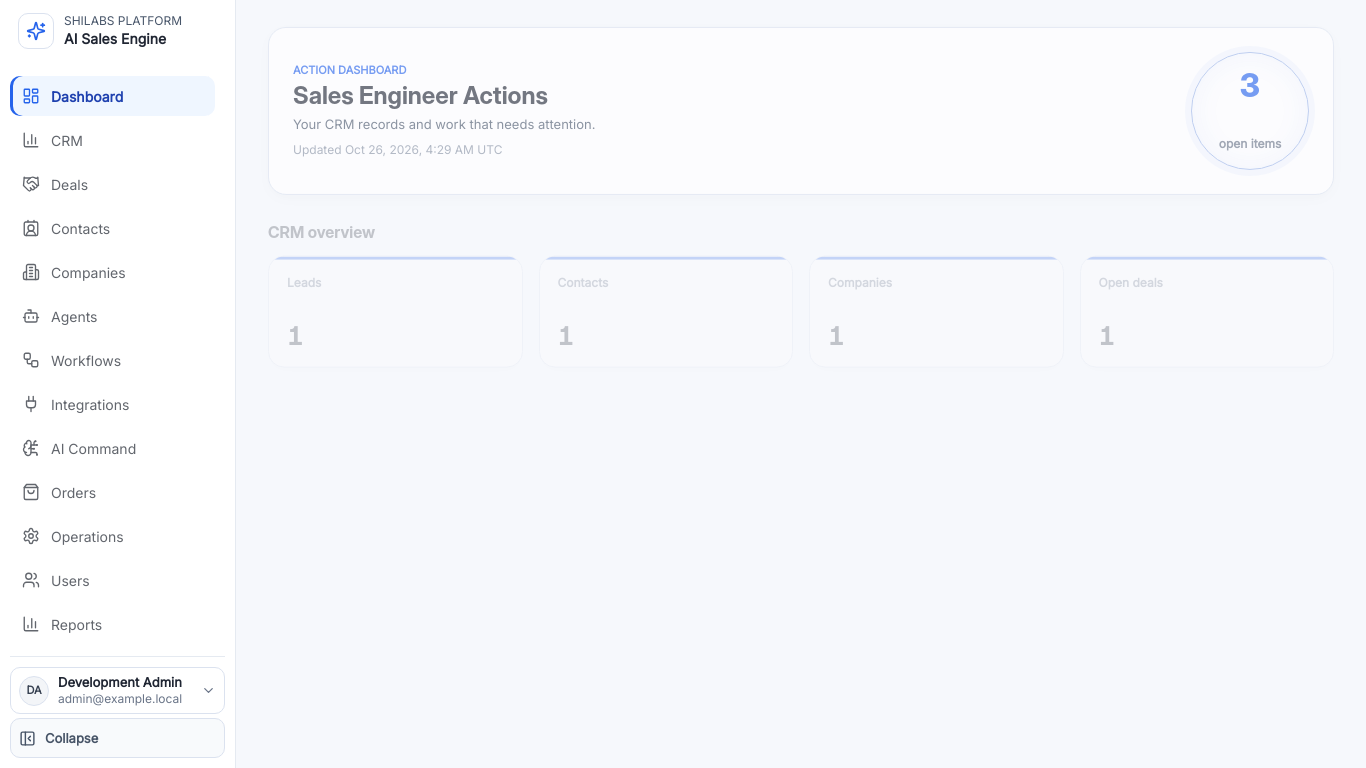
web app › persists the collapsed sidebar without changing the active view
expect the heading "Sales Engineer Actions" is shown: met, box [293,80,548,108]
Click the button with aria-label "Collapse sidebar" at (118, 738), box [10,718,225,758]
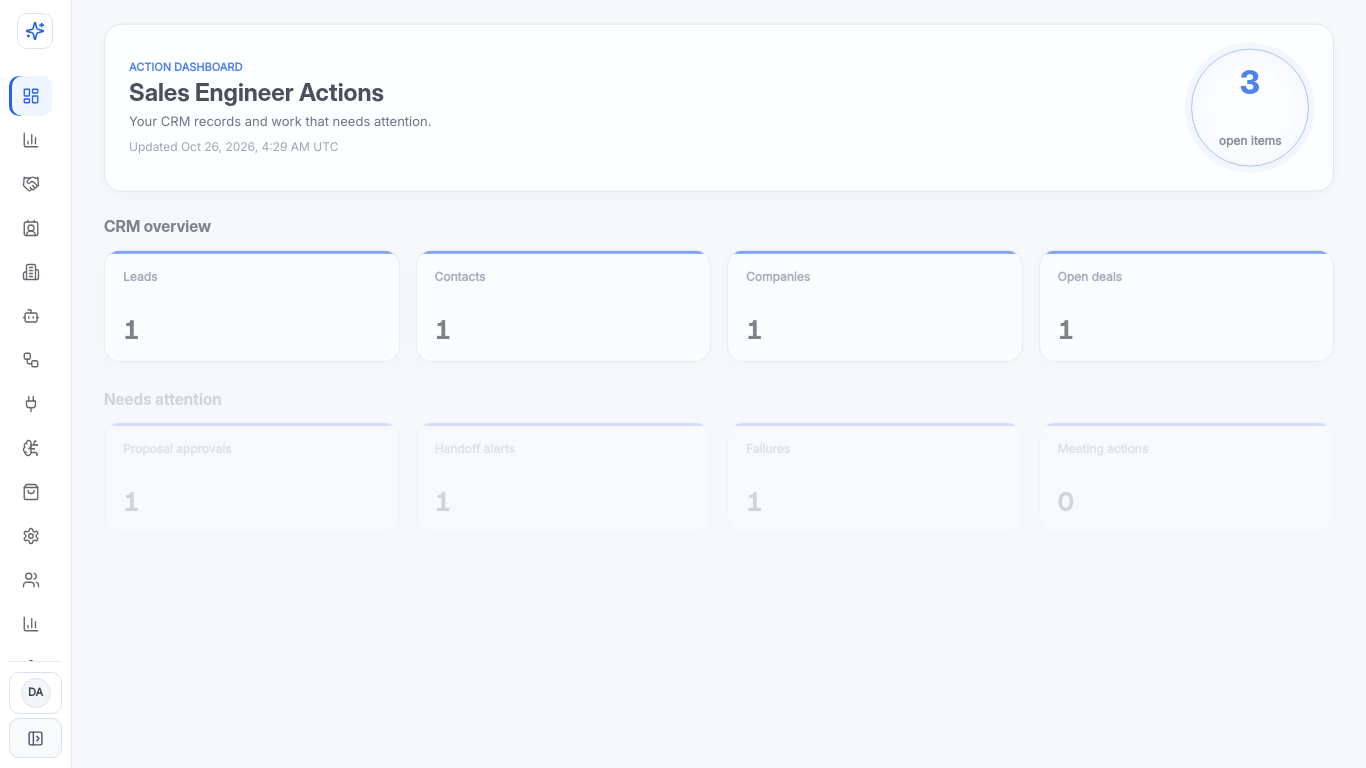
expect the heading "Sales Engineer Actions" is shown: met, box [129,76,384,106]
expect the button named "Expand sidebar" is shown: met, box [9,718,62,758]
